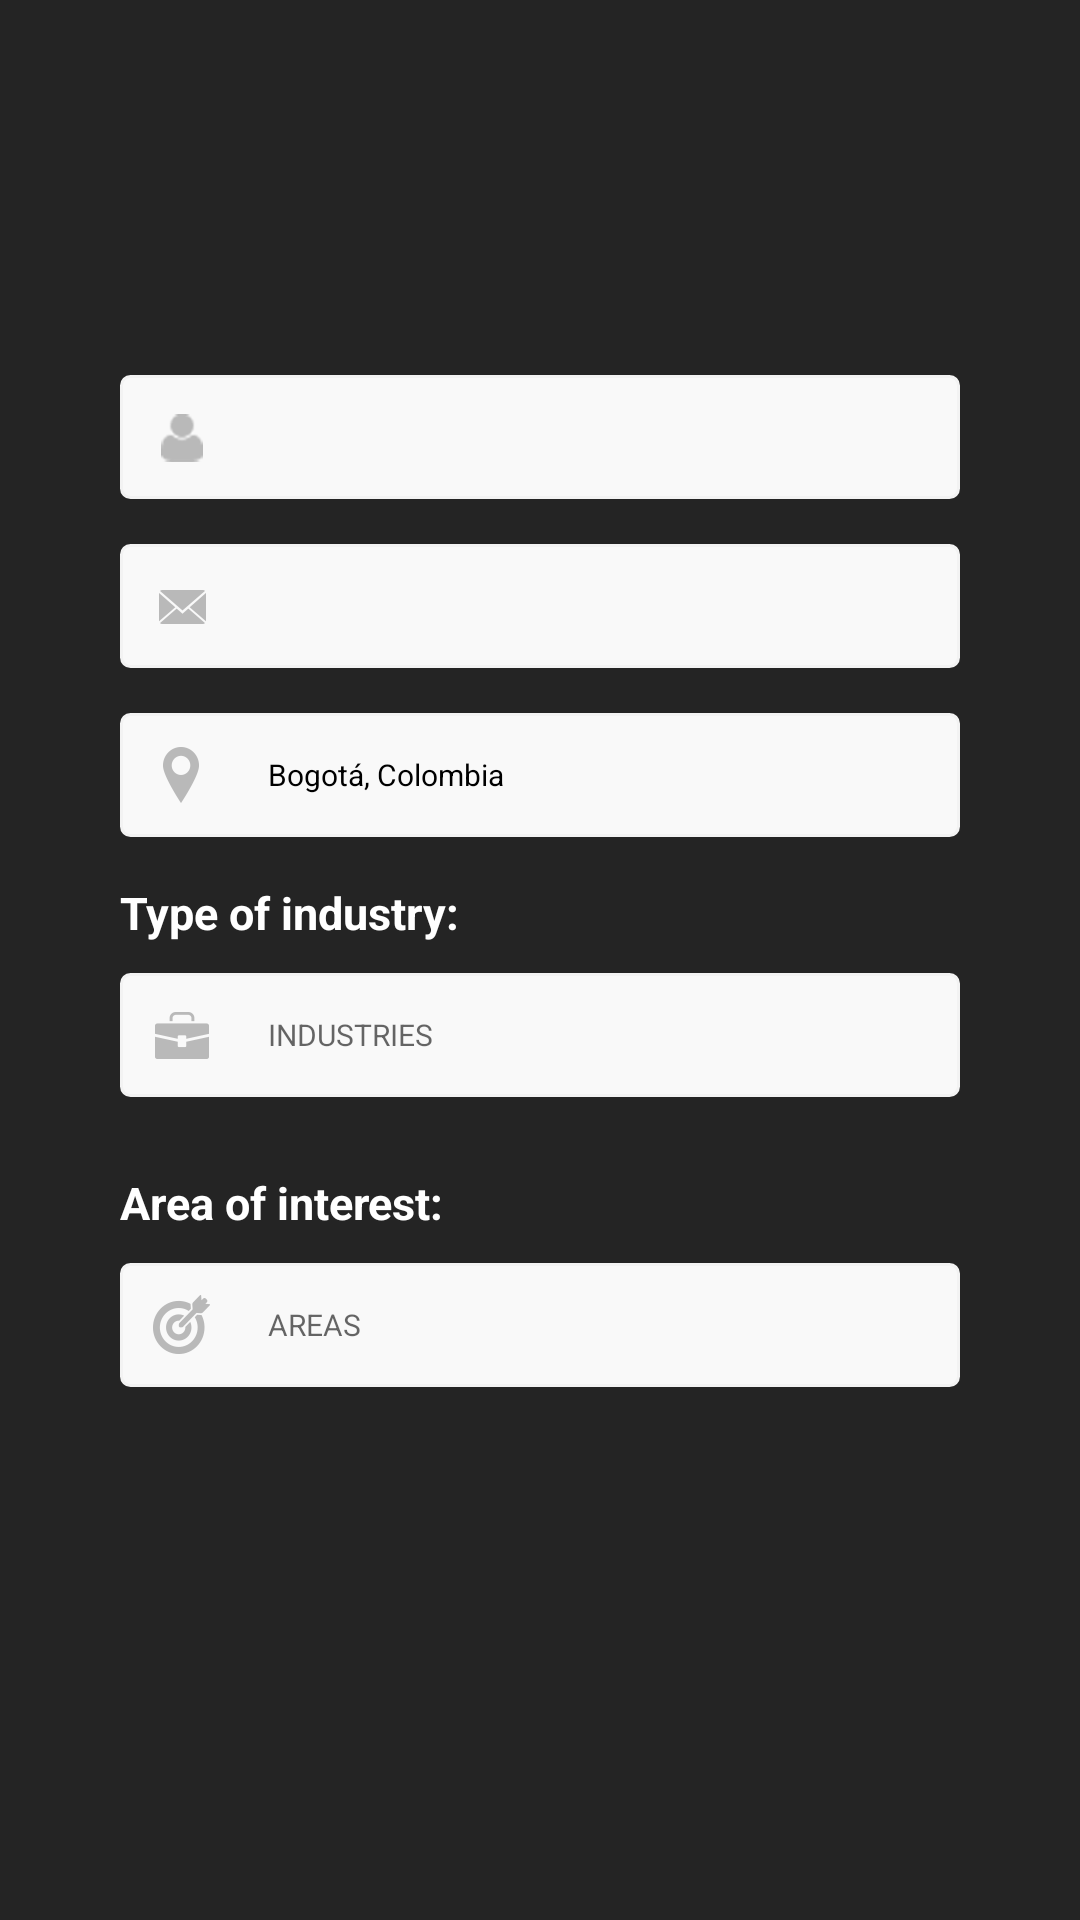

Screen size 1080w x 1920h. Icon name, then its center in pixels as (x=x, y=y):
areainteres: (x=181, y=1324)
industria: (x=182, y=1035)
location: (x=181, y=774)
mail: (x=182, y=607)
user: (x=182, y=438)
